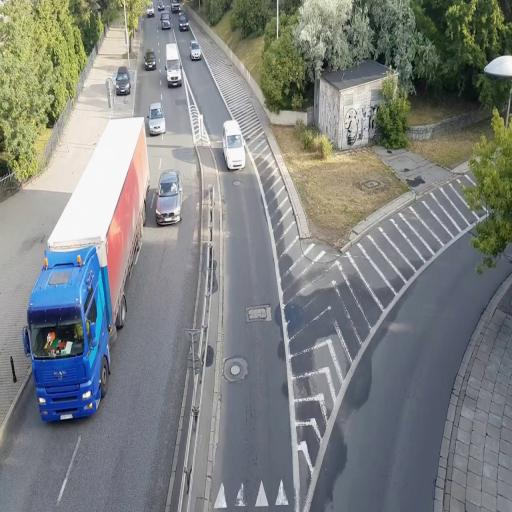vehicle: (23, 116, 150, 424), (23, 116, 150, 423), (155, 170, 183, 226), (222, 119, 246, 171), (147, 104, 165, 136), (166, 56, 182, 88), (114, 68, 132, 96), (143, 48, 157, 72), (188, 39, 202, 61), (159, 11, 172, 30), (178, 15, 189, 31)
